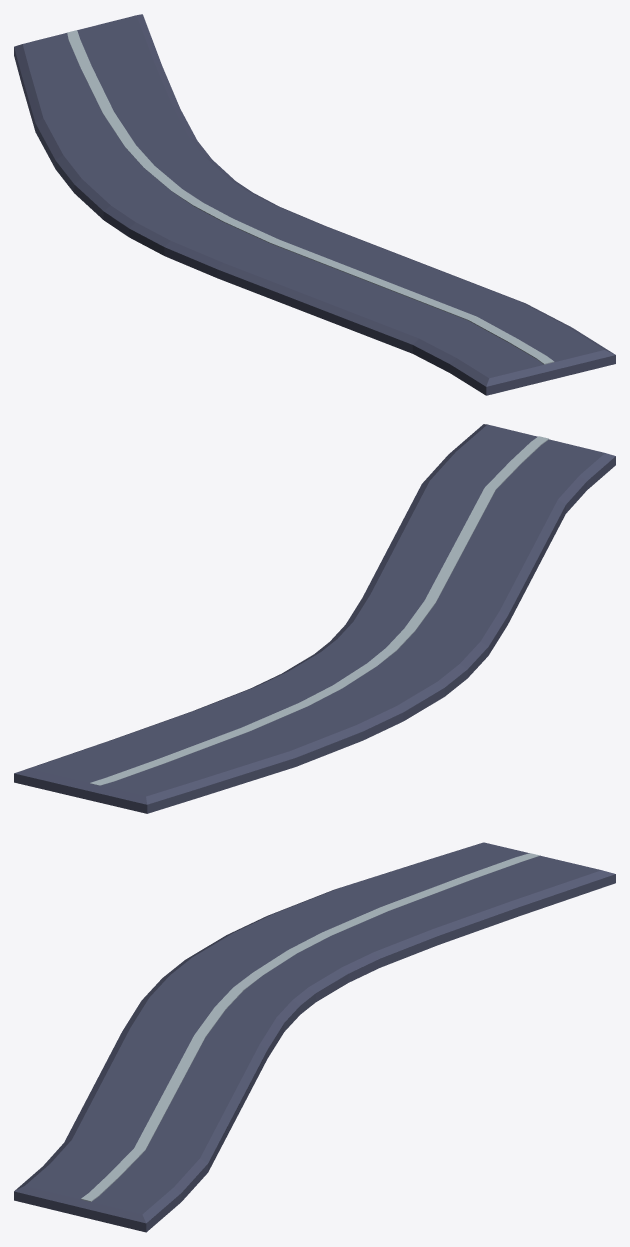
The model's file is curvedRoad.glb.
3 renders of one model, top to bottom at view 1: azimuth 30°, elevation 25°; view 2: azimuth 150°, elevation 25°; view 3: azimuth 330°, elevation 25°, orthographic.
Visible parts, largest first — view 1: Node; view 2: Node; view 3: Node.
Part boxes in pixels (x1,y1,x2,y2): Node: (14,14,615,395); Node: (14,424,615,813); Node: (14,842,615,1232).
Bounding box in the file's own units: 2442 × 137 × 8348.
1 material, 1 textured.
